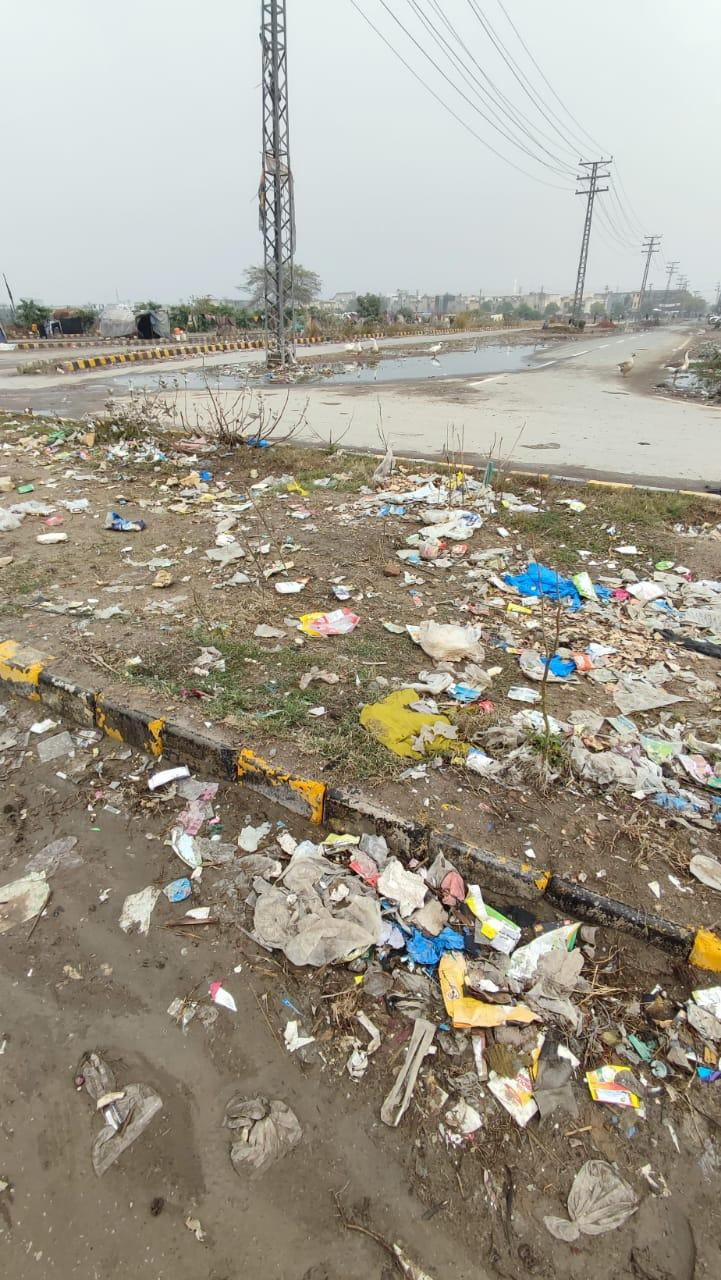garbage: (256, 426, 699, 1153)
